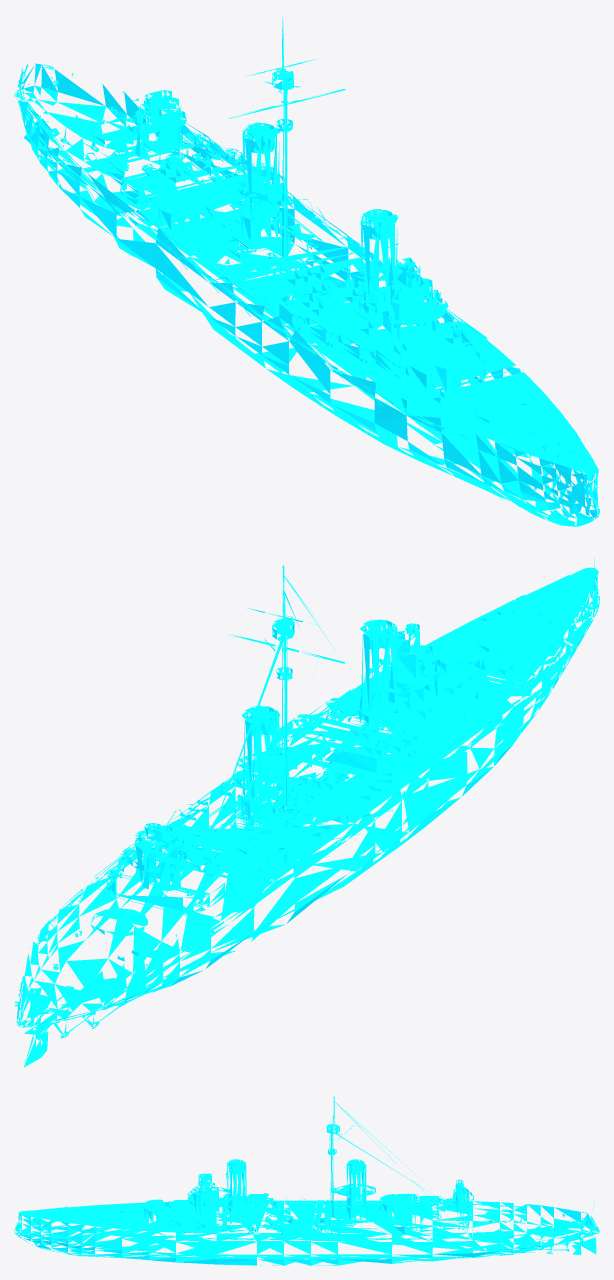
Rendered from Knyaz_Suvorov.glb.
3 renders of one model, top to bottom at view 1: azimuth 30°, elevation 25°; view 2: azimuth 150°, elevation 25°; view 3: azimuth 270°, elevation 25°, orthographic. The views are drawn at different scales.
Size of the model in its own units: 1.77 by 3.61 by 12.05.
